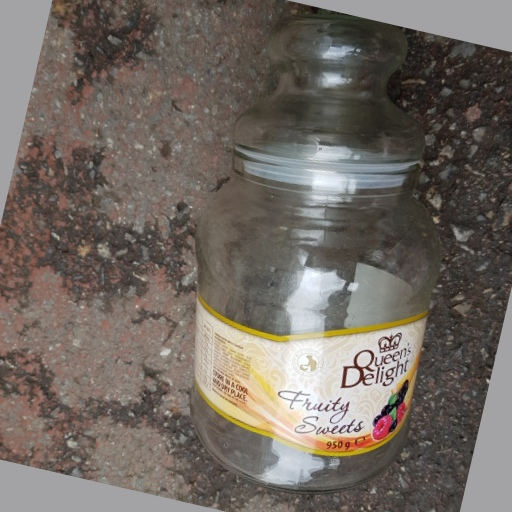Glass_5: (191, 17, 444, 489)
